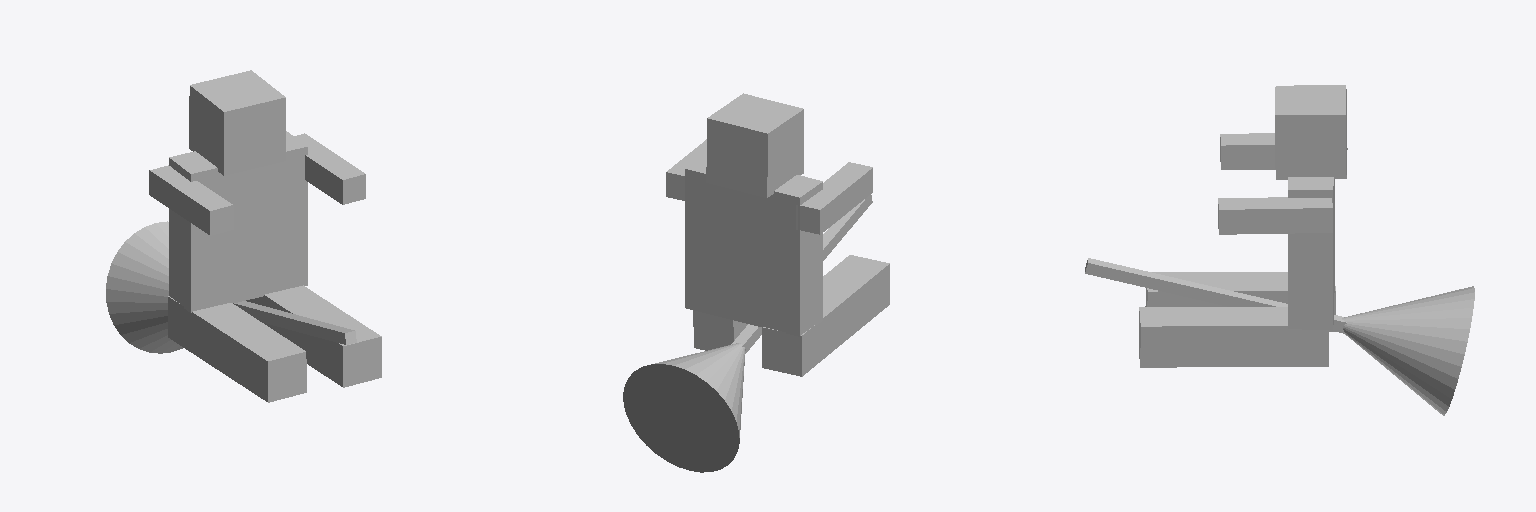
The model's file is broomPlayer.obj.
3 views of the same model, side by side, from view 1: azimuth 30°, elevation 25°; view 2: azimuth 150°, elevation 25°; view 3: azimuth 270°, elevation 25° (orthographic).
Parts seen in each view (by area): view 1: Cube.001_Cube.002; view 2: Cube.001_Cube.002; view 3: Cube.001_Cube.002.
Boxes of the visible parts, x1=… form: Cube.001_Cube.002: x1=106, y1=70, x2=381, y2=402; Cube.001_Cube.002: x1=623, y1=93, x2=889, y2=472; Cube.001_Cube.002: x1=1085, y1=85, x2=1474, y2=415.
Bounding box in the file's own units: 2.75 × 5.12 × 5.84.